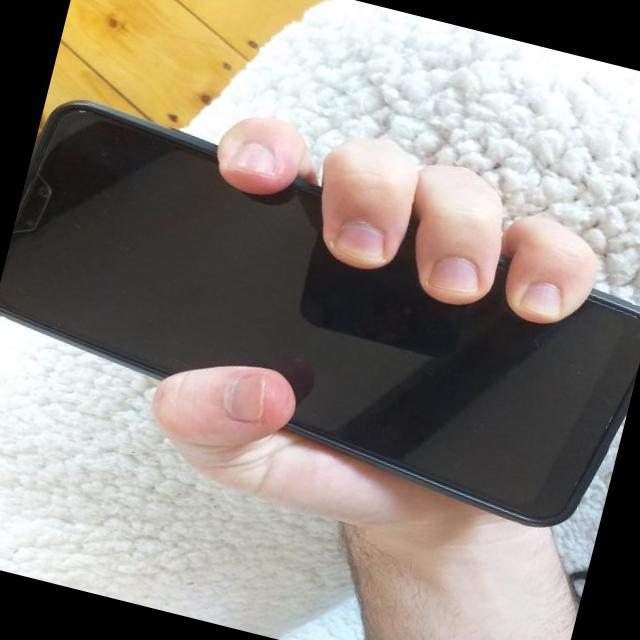Nail: (227, 368, 268, 418), (432, 254, 478, 294), (519, 281, 562, 321), (339, 219, 382, 258), (237, 141, 273, 172)
